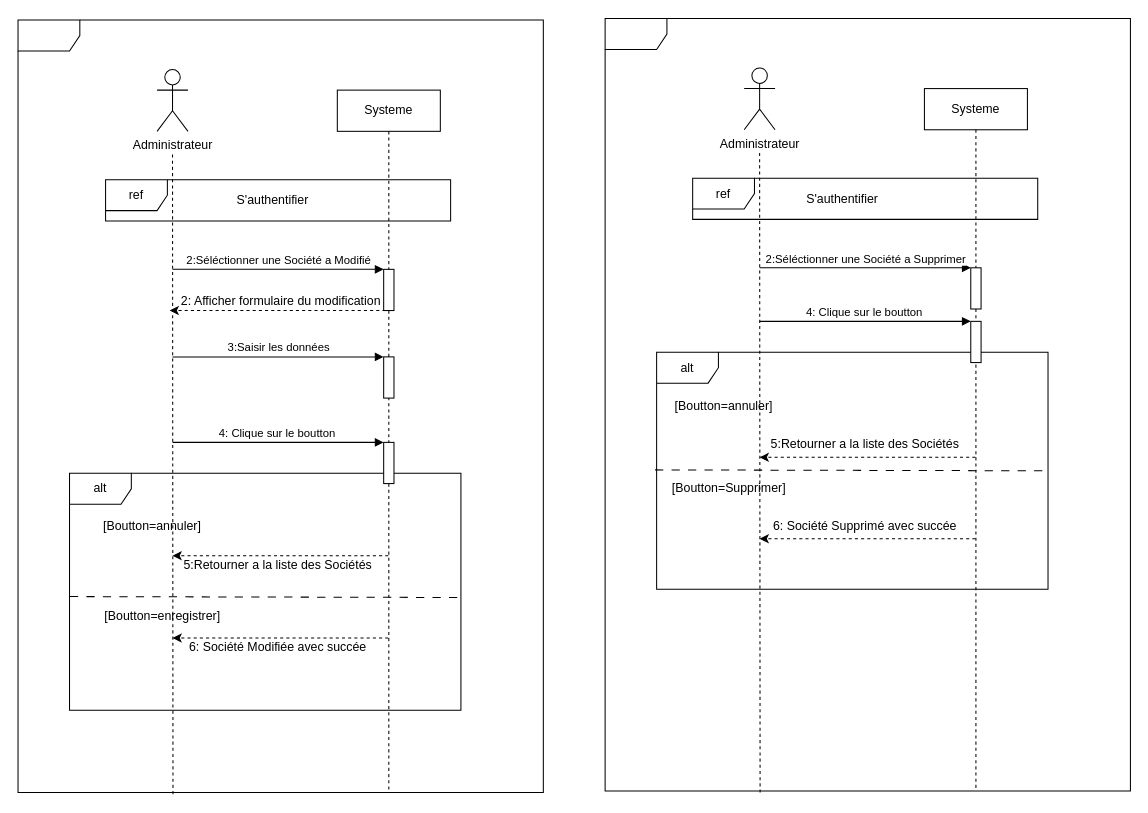
This 1148x813 diagram has some shape labels left out. The box of each missing label's shape, as (x1, y1, x2, y2) in pixels:
Modifier Société: (17, 19, 543, 793)
Supprimer Société: (604, 18, 1130, 791)
